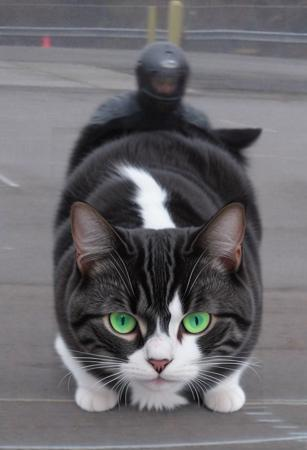cat: (52, 128, 262, 411)
person: (72, 42, 246, 396)
person/foot: (199, 360, 235, 396), (77, 289, 102, 327)
person/hand: (91, 164, 130, 192), (213, 176, 244, 203)
person/head: (137, 43, 190, 113)
